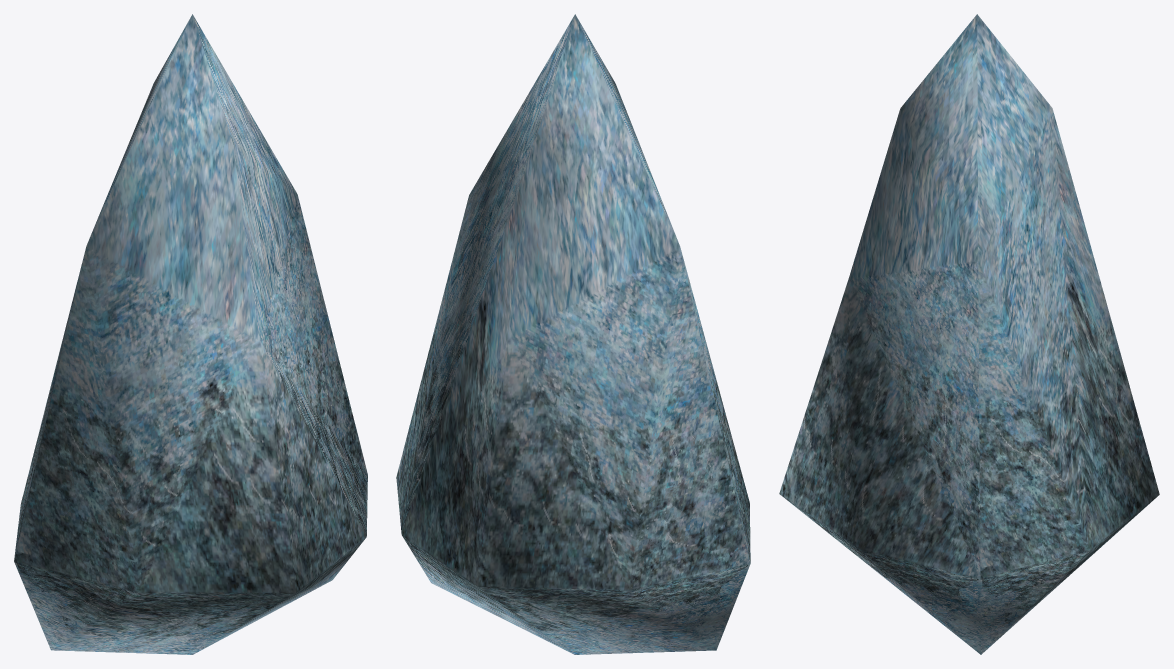
The model's file is thm_all_cave_stalagmite_ice_b1_l2.fbx.
The picture shows the model from 3 angles, left to right: view 1: azimuth 30°, elevation 25°; view 2: azimuth 150°, elevation 25°; view 3: azimuth 270°, elevation 25°; orthographic projection. The views are drawn at different scales.
Parts seen in each view (by area): view 1: mesh_node; view 2: mesh_node; view 3: mesh_node.
Boxes of the visible parts, bbox=[...] form: mesh_node: bbox=[14, 14, 367, 654]; mesh_node: bbox=[396, 14, 750, 654]; mesh_node: bbox=[779, 14, 1159, 654].
Size of the model in its own units: 2.28 by 3.95 by 2.23.
